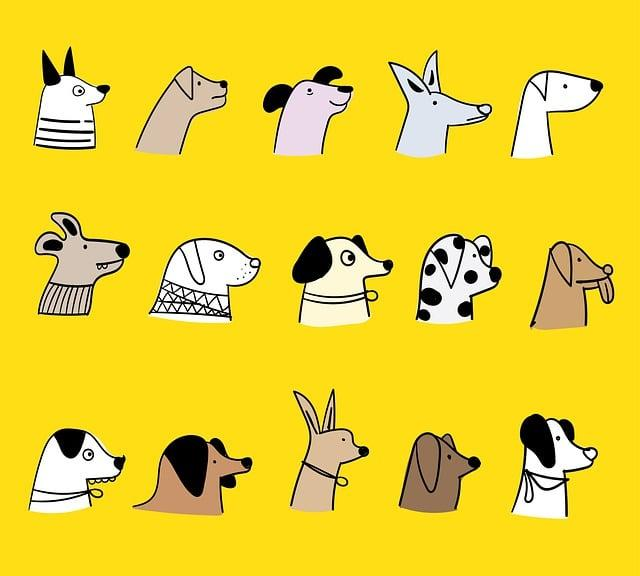Non_Gorille: (27, 34, 610, 558)
